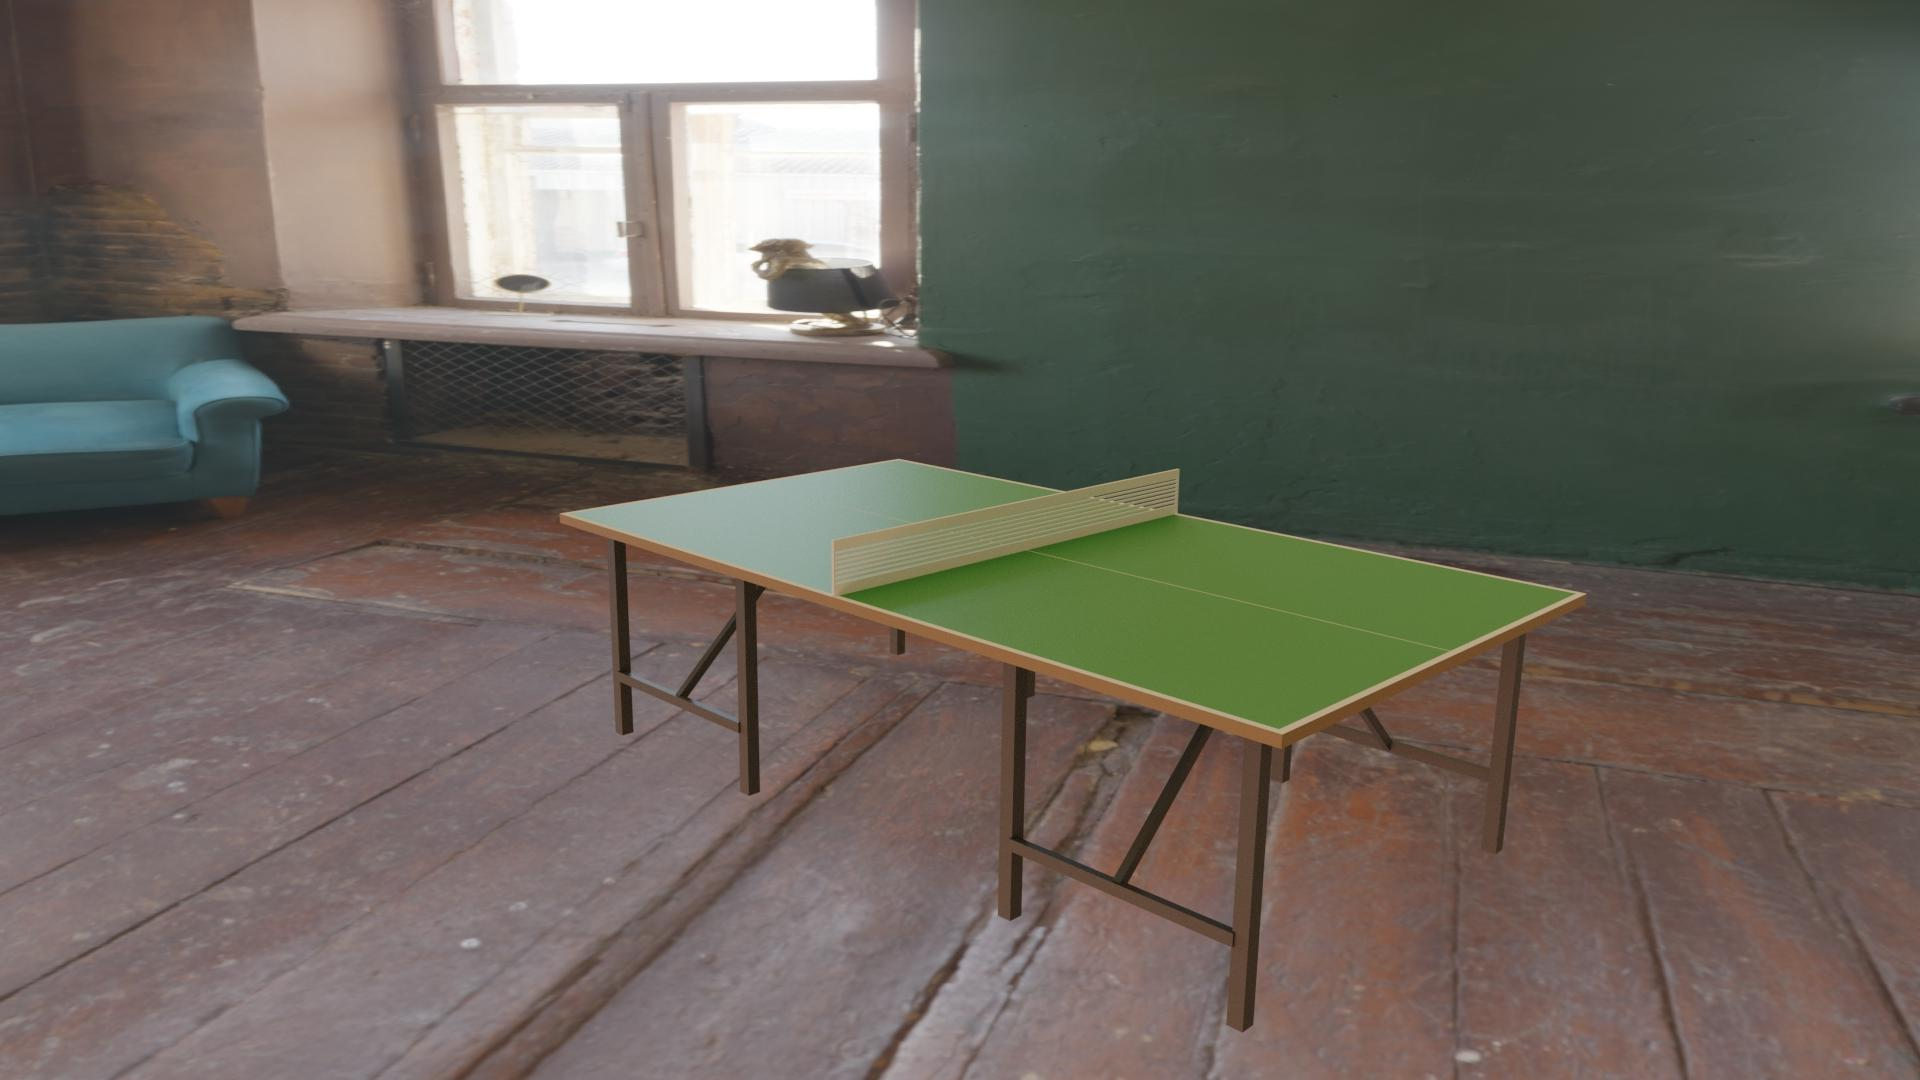table: (568, 460, 1576, 729)
